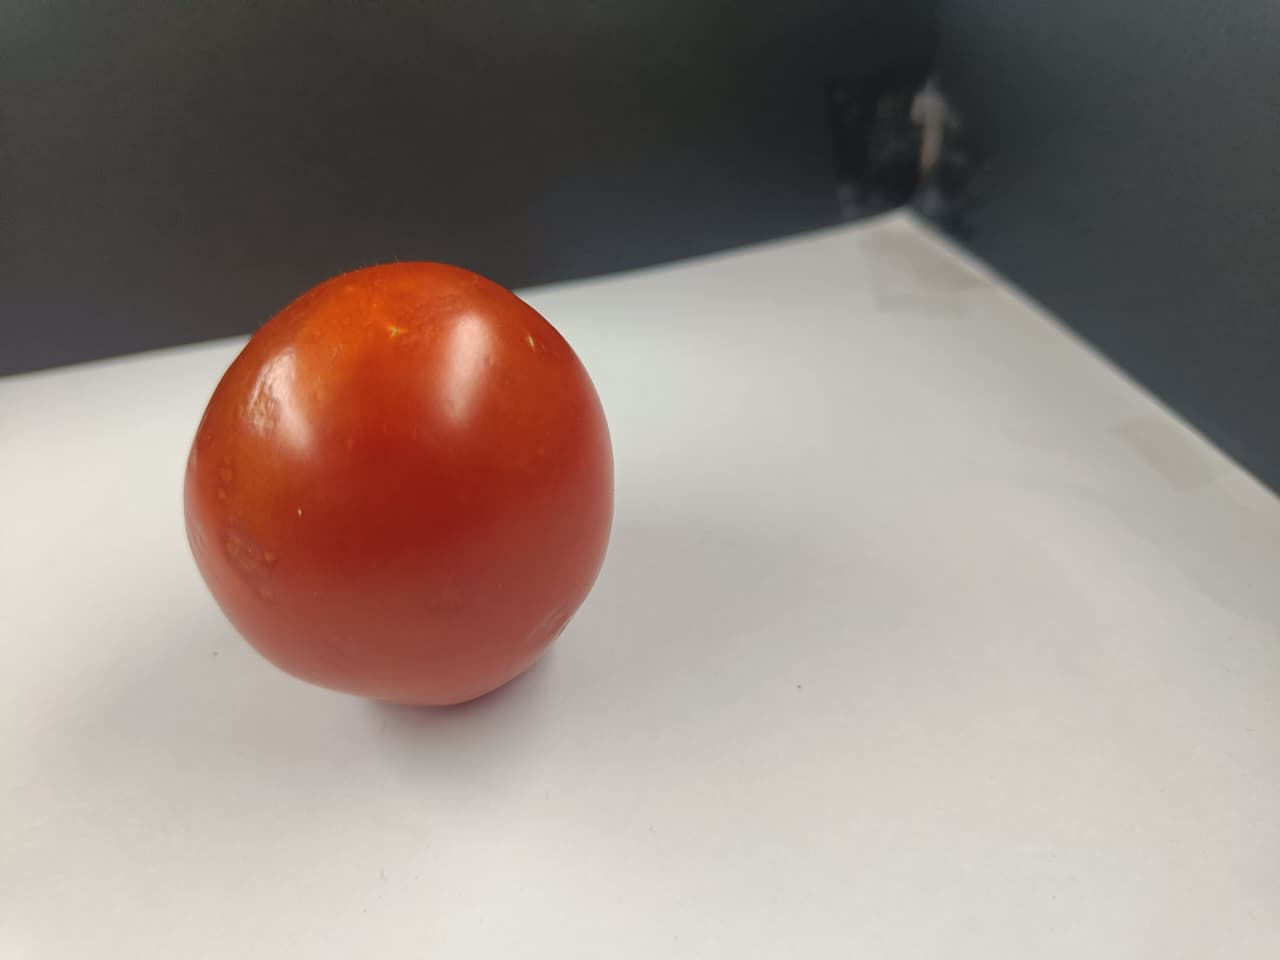ripe: (164, 272, 622, 710)
